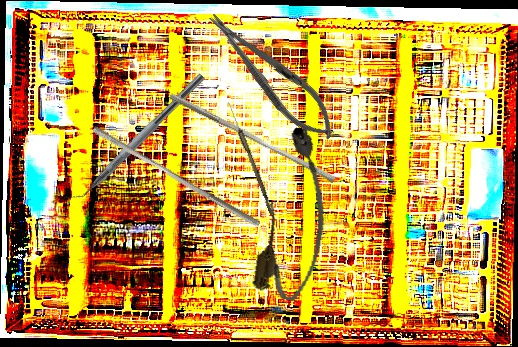Cannula: (250, 124, 343, 305)
Chopper: (61, 63, 206, 213)
Needle Holder: (197, 0, 347, 151)
Pusher: (88, 125, 265, 228), (165, 92, 339, 184)
Surgical Spoon: (225, 100, 276, 216)
